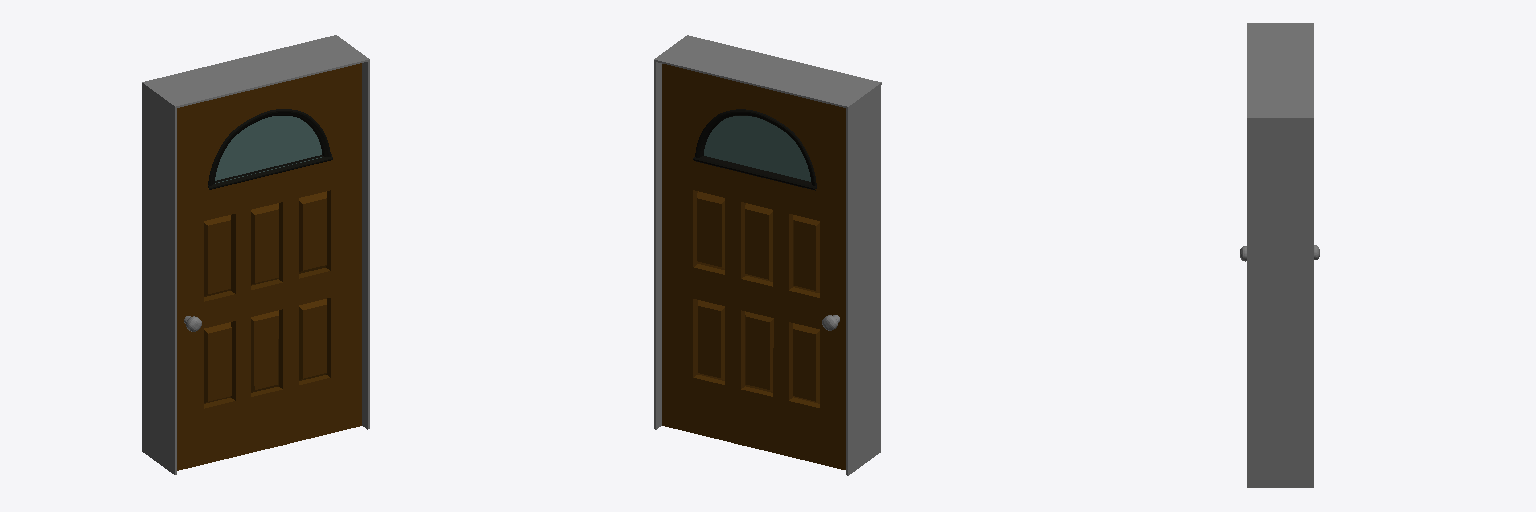
Rendered from frontDoor.obj.
3 views of the same model, side by side, from view 1: azimuth 30°, elevation 25°; view 2: azimuth 150°, elevation 25°; view 3: azimuth 270°, elevation 25° (orthographic).
Parts seen in each view (by area): view 1: PolyMesh_7.002, Cube_3.002, Cube_4.006, sweethome3d_window_pane.006, Cube_3_1.002, Extruded_Object_1_1.002, Extruded_Object_3_1.002; view 2: PolyMesh_7-mirror.002, Cube_3.002, Cube_4.006, sweethome3d_window_pane.006, Cube_3_1.002, Extruded_Object_1.001, Extruded_Object_3.002; view 3: Cube_3_1.002, Cube_4.006.
Part boxes in pixels (x1,y1,x2,y2): PolyMesh_7.002: (177,63,361,470); Cube_3.002: (142,84,176,474); Cube_4.006: (142,35,369,108); sweethome3d_window_pane.006: (215,116,321,183); Cube_3_1.002: (362,61,369,429); Extruded_Object_1_1.002: (208,109,330,187); Extruded_Object_3_1.002: (208,154,332,189); PolyMesh_7-mirror.002: (662,64,845,469); Cube_3.002: (846,84,880,475); Cube_4.006: (654,35,881,108); sweethome3d_window_pane.006: (704,116,810,181); Cube_3_1.002: (654,62,661,429); Extruded_Object_1.001: (695,109,816,188); Extruded_Object_3.002: (693,156,815,190); Cube_3_1.002: (1247,120,1313,487); Cube_4.006: (1247,23,1313,119).
Size of the model in its own units: 0.6653 by 1.21 by 0.2359.